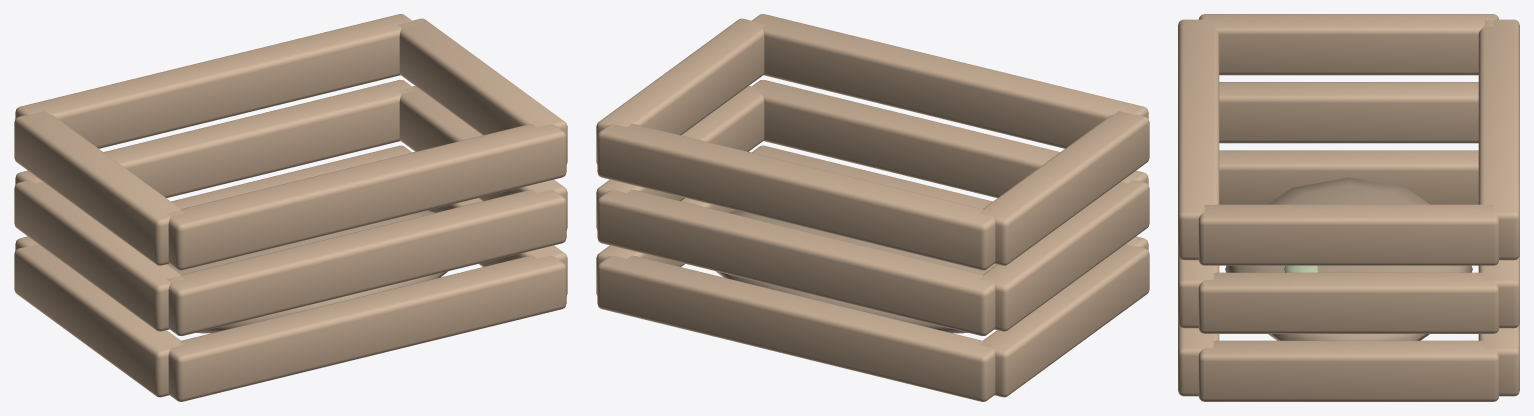
The model's file is compost-partial.glb.
3 views of the same model, side by side, from view 1: azimuth 30°, elevation 25°; view 2: azimuth 150°, elevation 25°; view 3: azimuth 270°, elevation 25° (orthographic). The views are drawn at different scales.
Visible parts, largest first — view 1: Compost bin slat.008, Compost bin slat.010, Compost bin slat.006, Compost bin slat.011, Compost bin slat.009, Compost bin side.010, Compost bin side.006, Compost bin side.008, Compost bin side.011, Compost bin side.009, Compost bin slat.007, Collected compost.001 (+1 smaller); view 2: Compost bin slat.009, Compost bin slat.011, Compost bin slat.007, Compost bin slat.010, Compost bin slat.008, Compost bin side.010, Compost bin side.006, Compost bin side.008, Compost bin side.011, Compost bin side.009, Compost bin slat.006, Collected compost.001 (+1 smaller); view 3: Compost bin side.011, Compost bin side.009, Compost bin side.007, Compost bin side.010, Compost bin side.008, Compost bin side.006, Compost bin slat.010, Compost bin slat.011, Collected compost.001, Compost bin slat.008, Compost bin slat.009, Compost bin slat.006 (+1 smaller).
Boxes of the visible parts, box(x1,y1,x2,y2) form: Compost bin slat.008: box(167, 189, 566, 335); Compost bin slat.010: box(166, 124, 566, 270); Compost bin slat.006: box(168, 255, 566, 401); Compost bin slat.011: box(15, 14, 414, 148); Compost bin slat.009: box(15, 80, 414, 197); Compost bin side.010: box(14, 111, 183, 265); Compost bin side.006: box(14, 244, 183, 397); Compost bin side.008: box(14, 180, 183, 331); Compost bin side.011: box(398, 18, 567, 164); Compost bin side.009: box(399, 86, 567, 230); Compost bin slat.007: box(15, 145, 411, 250); Collected compost.001: box(167, 210, 447, 333); Compost bin slat.009: box(597, 189, 997, 335); Compost bin slat.011: box(597, 124, 997, 270); Compost bin slat.007: box(597, 255, 995, 401); Compost bin slat.010: box(749, 14, 1148, 148); Compost bin slat.008: box(749, 80, 1148, 197); Compost bin side.010: box(980, 111, 1149, 265); Compost bin side.006: box(980, 244, 1149, 397); Compost bin side.008: box(980, 180, 1149, 331); Compost bin side.011: box(596, 18, 765, 164); Compost bin side.009: box(596, 86, 766, 230); Compost bin slat.006: box(752, 145, 1148, 250); Collected compost.001: box(716, 210, 996, 333); Compost bin side.011: box(1198, 204, 1499, 265); Compost bin side.009: box(1198, 272, 1499, 333); Compost bin side.007: box(1198, 340, 1499, 401); Compost bin side.010: box(1199, 14, 1498, 75); Compost bin side.008: box(1219, 82, 1478, 143); Compost bin side.006: box(1219, 150, 1478, 204); Compost bin slat.010: box(1178, 19, 1219, 260); Compost bin slat.011: box(1478, 19, 1519, 260); Collected compost.001: box(1225, 177, 1472, 340); Compost bin slat.008: box(1178, 255, 1219, 328); Compost bin slat.009: box(1478, 255, 1519, 328); Compost bin slat.006: box(1178, 323, 1219, 396).
Bounding box in the file's own units: 1.31 × 0.548 × 0.91.
